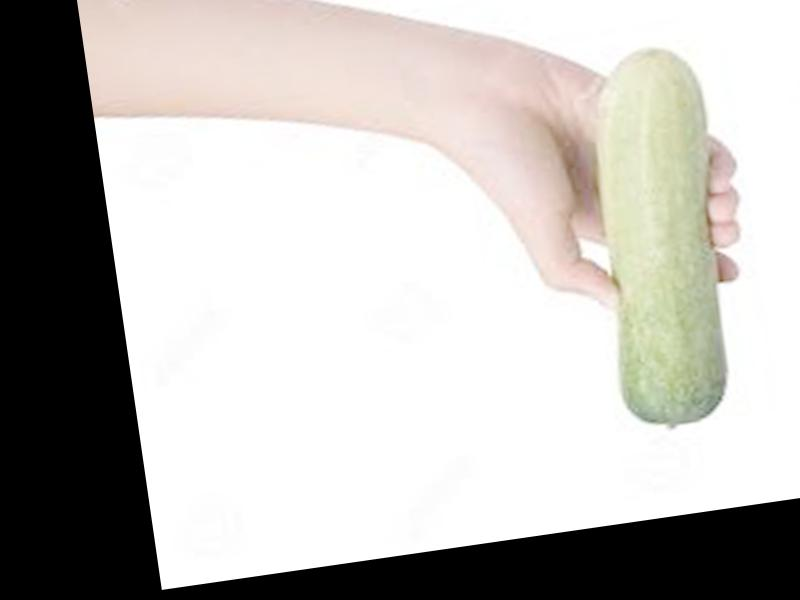Cucumber: (566, 40, 745, 438)
